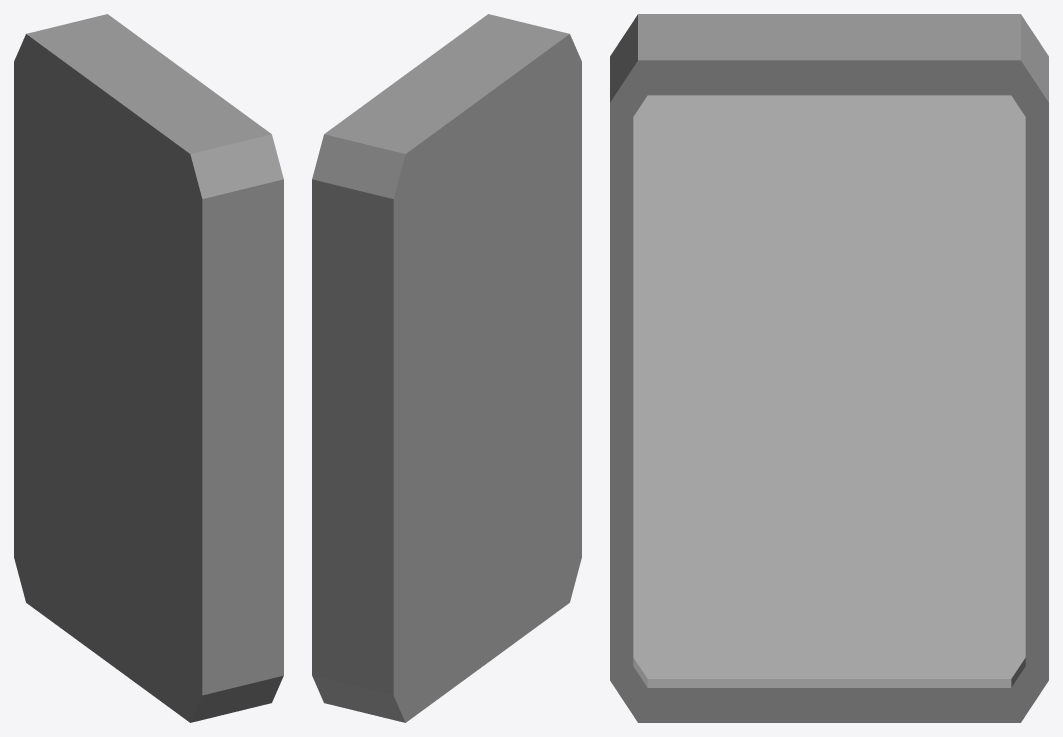
Rendered from phone.glb.
The picture shows the model from 3 angles, left to right: view 1: azimuth 30°, elevation 25°; view 2: azimuth 150°, elevation 25°; view 3: azimuth 270°, elevation 25°; orthographic projection. The views are drawn at different scales.
Visible parts, largest first — view 1: Cube; view 2: Cube; view 3: Cube.
Boxes of the visible parts, <box> form: Cube: <box>14,14,283,722</box>; Cube: <box>312,14,581,722</box>; Cube: <box>610,14,1048,722</box>.
Bounding box in the file's own units: 0.3 × 2 × 1.2.
1 material, 1 textured.
